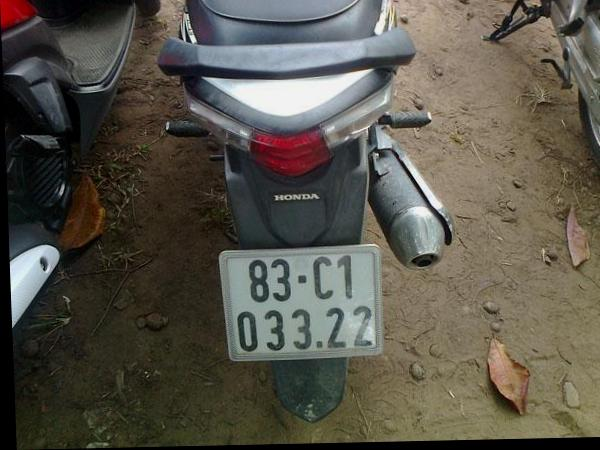License_Plate: (217, 247, 391, 363)
